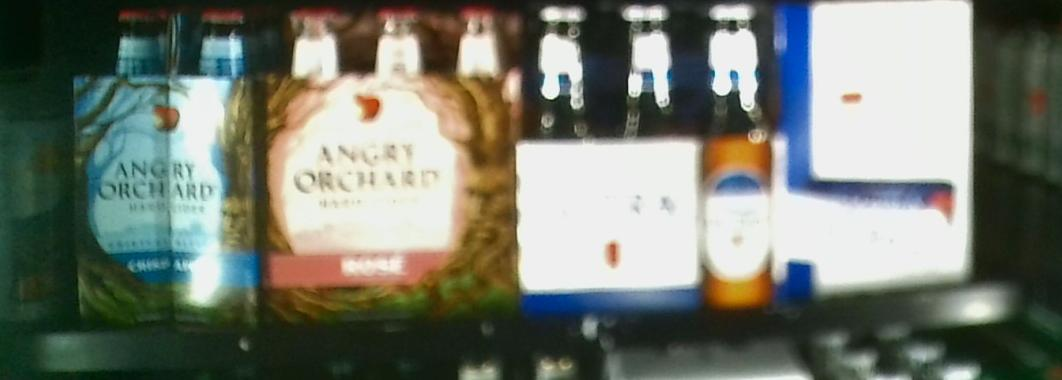bottle: (258, 1, 520, 313), (520, 1, 780, 312), (75, 2, 254, 326), (780, 5, 978, 294)
